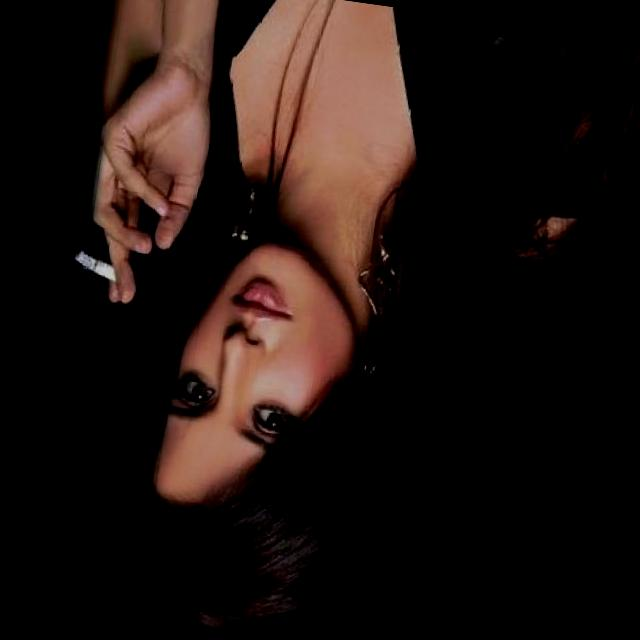cigarette: (68, 245, 126, 286)
